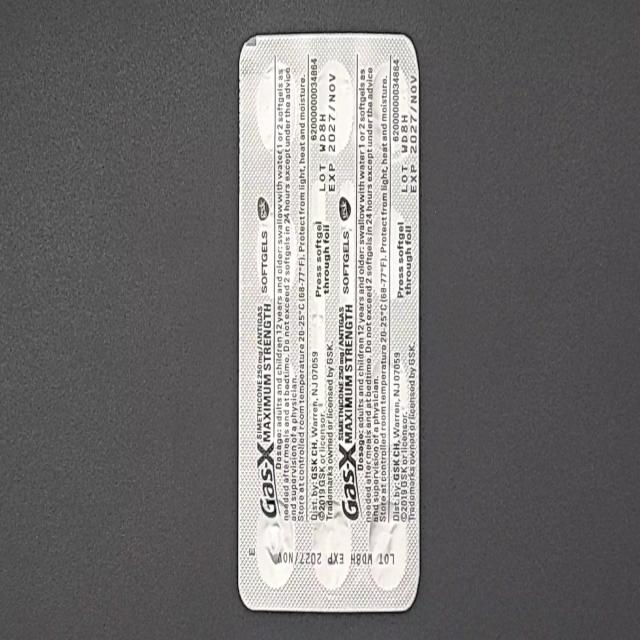no defect: (8, 13, 30, 60)
